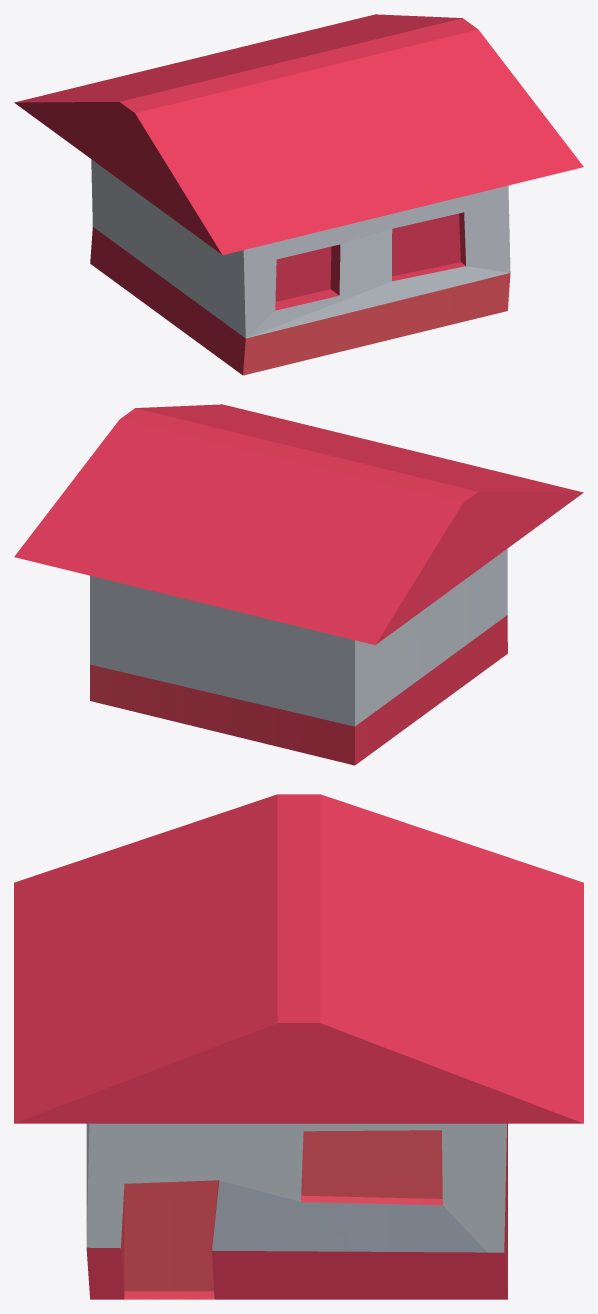
File: casa_7.glb
3 renders of one model, top to bottom at view 1: azimuth 30°, elevation 25°; view 2: azimuth 150°, elevation 25°; view 3: azimuth 270°, elevation 25°, orthographic. The views are drawn at different scales.
Parts seen in each view (by area): view 1: Cube; view 2: Cube; view 3: Cube.
Boxes of the visible parts, box(x1,y1,x2,y2) form: Cube: box(14, 14, 583, 375); Cube: box(14, 404, 583, 765); Cube: box(14, 794, 583, 1299).
Size of what is drawn, in the model's own units: 25.66 by 15.04 by 25.66.
1 material, 1 textured.
